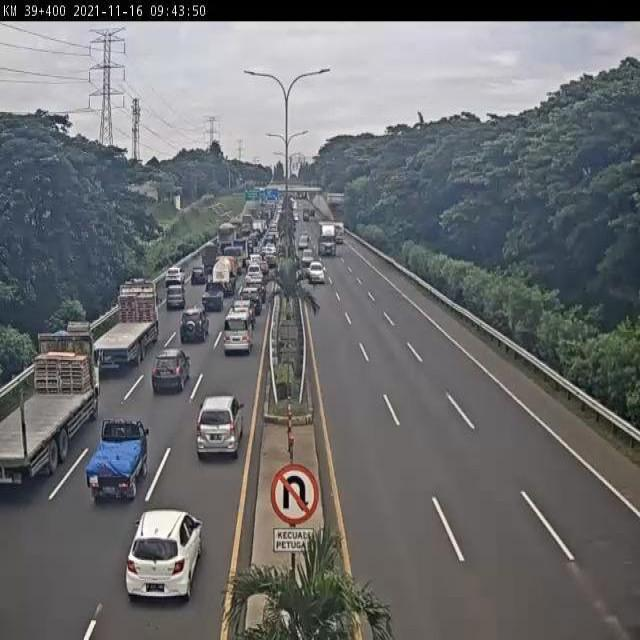car: (127, 509, 203, 603), (88, 420, 151, 505), (196, 395, 243, 457), (152, 351, 190, 392), (223, 314, 253, 354), (179, 310, 209, 346), (202, 281, 226, 315), (230, 300, 254, 333), (240, 287, 262, 313), (166, 286, 186, 310), (165, 267, 186, 288), (248, 277, 268, 299), (189, 265, 206, 287), (246, 265, 264, 284), (308, 263, 323, 281), (301, 247, 313, 263), (248, 255, 264, 267), (299, 234, 308, 250)
truck: (0, 335, 101, 477), (93, 282, 160, 366), (212, 259, 235, 299), (217, 223, 237, 253), (318, 223, 336, 256), (200, 243, 221, 271), (224, 246, 243, 274)
